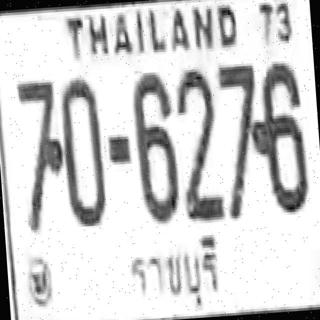N00: (57, 74, 107, 225)
N02: (174, 66, 221, 219)
N06: (261, 58, 310, 213), (130, 69, 179, 220)
N07: (15, 76, 65, 230), (216, 61, 264, 218)
P52: (121, 231, 227, 312)
